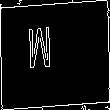M_S: (43, 29, 67, 81)
